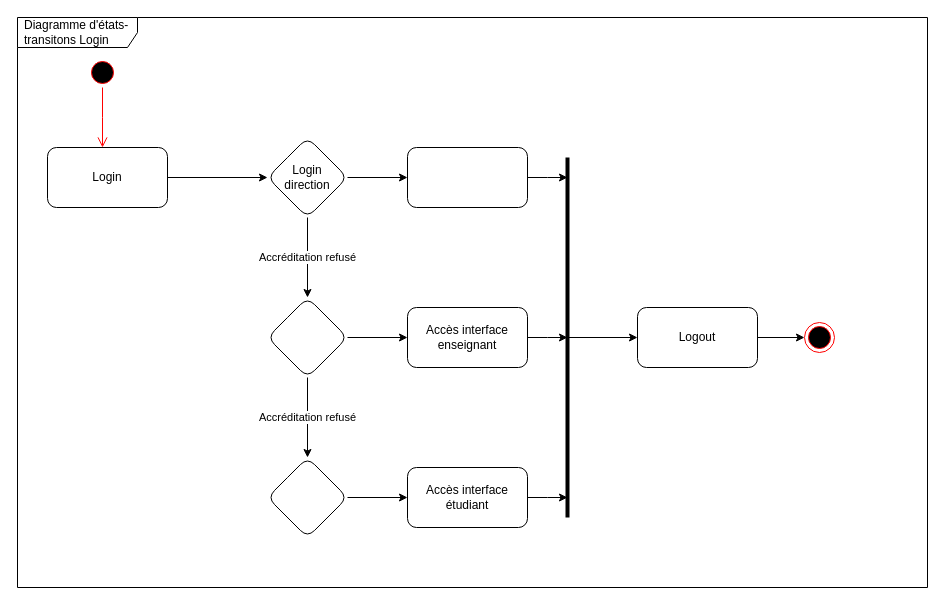
Some shapes in this 945 by 605 pixel diagram are drawn without their labels. The shapes that lost their labels are listed below. From the top down, each one's box as (x1, y1, x2, y2) in pixels, then its label:
(406, 146, 528, 208): Accès interface direction
(266, 296, 348, 378): Login enseignant
(266, 456, 348, 538): Login étudiant
